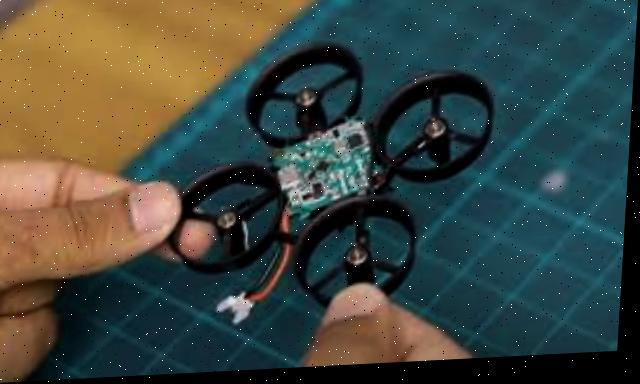drone: (168, 35, 506, 323)
